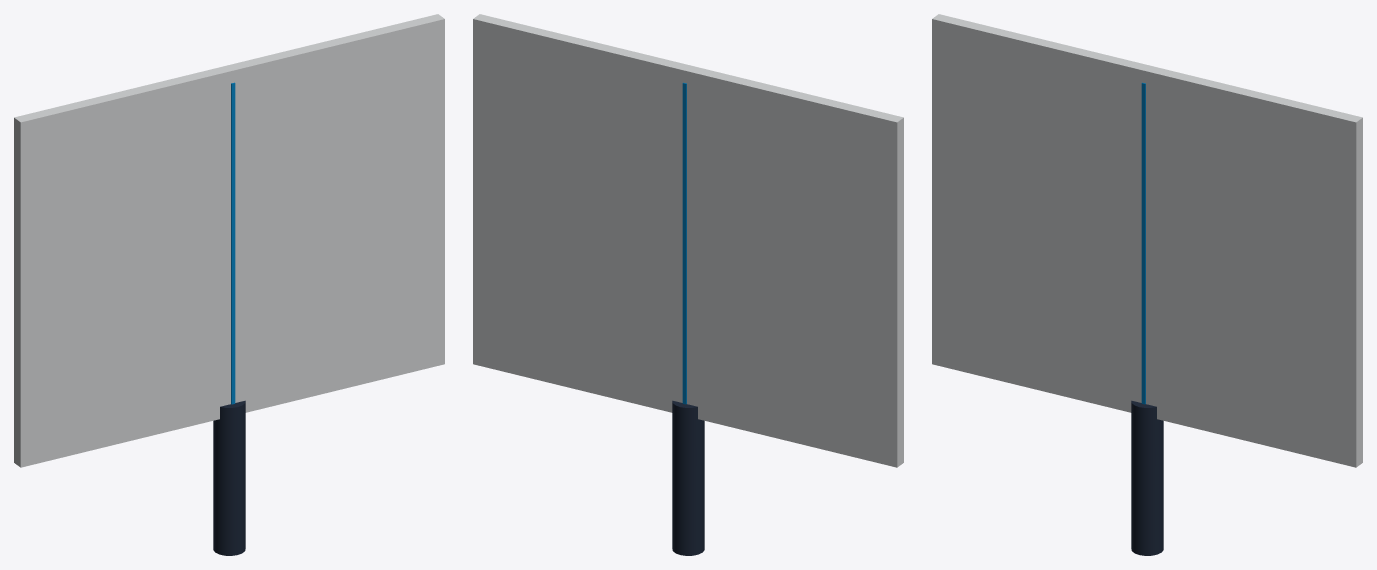
File: diffraction_screen.glb
The picture shows the model from 3 angles, left to right: view 1: azimuth 30°, elevation 25°; view 2: azimuth 150°, elevation 25°; view 3: azimuth 330°, elevation 25°; orthographic projection.
Parts seen in each view (by area): view 1: Diffraction_Projection_Screen; view 2: Diffraction_Projection_Screen; view 3: Diffraction_Projection_Screen.
Part boxes in pixels (x1,y1,x2,y2): Diffraction_Projection_Screen: (14,14,444,555); Diffraction_Projection_Screen: (473,14,903,555); Diffraction_Projection_Screen: (932,14,1362,555).
Size of the model in its own units: 0.36 by 0.39 by 0.024.
